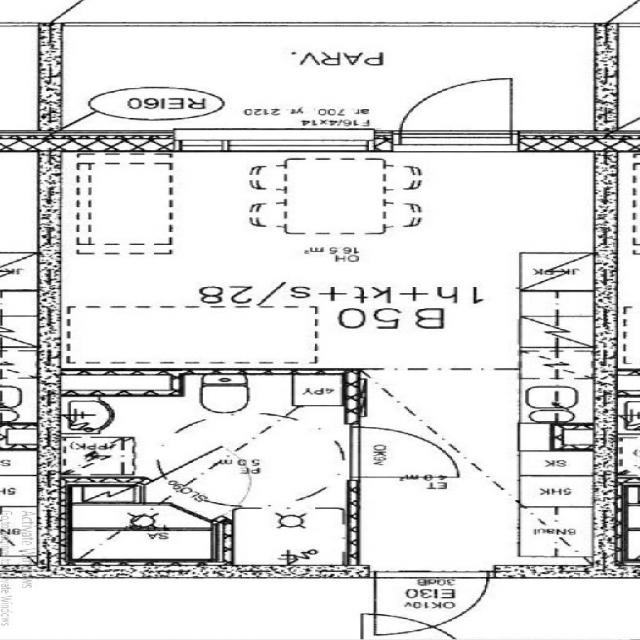door: (143, 446, 289, 520), (400, 74, 510, 151), (374, 571, 487, 634), (351, 427, 458, 477)
